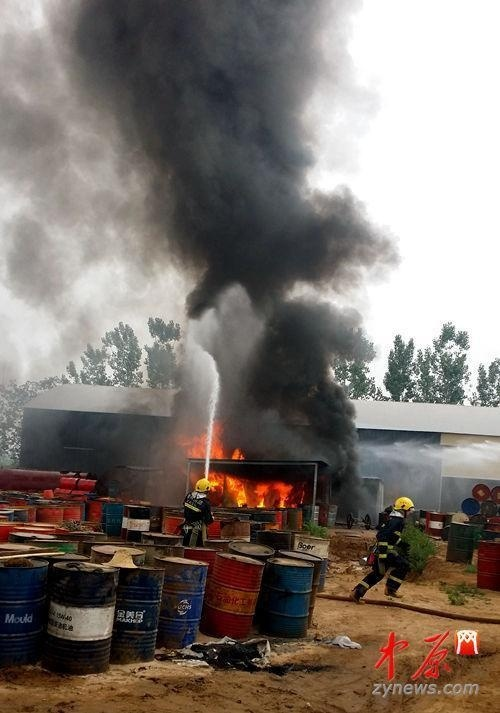fire: (193, 436, 303, 509)
